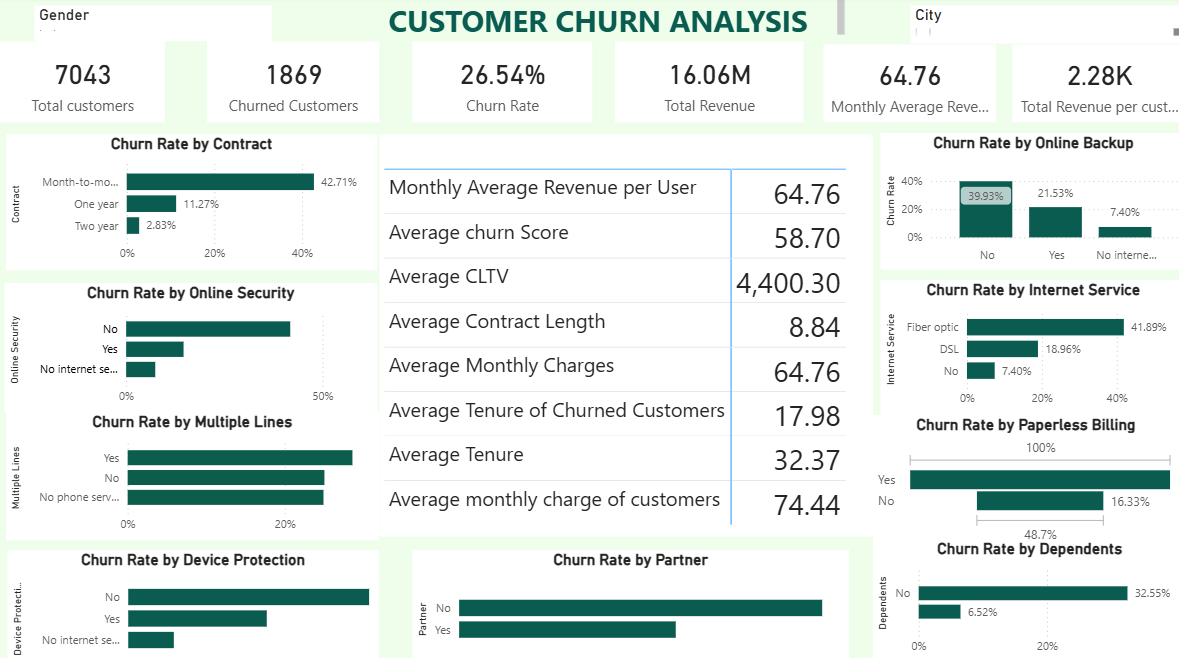

Layout of this report page (visuals, bound fields, positions):
{"tool":"powerbi","page":{"name":"Churn Rate","canvas":[1280,720],"ordinal":0},"visuals":[{"type":"card","fields":{"Values":["Measure Table.Total customers"]},"box":[0,50.9,178.1,87.5],"z":0},{"type":"card","fields":{"Values":["Measure Table.Churned Customers"]},"box":[222.7,50.9,186.1,87.5],"z":1000},{"type":"card","fields":{"Values":["Measure Table.Churn Rate"]},"box":[445.4,50.9,194.1,87.5],"z":2000},{"type":"textbox","box":[383.8,0,532.7,50.2],"z":3000},{"type":"card","fields":{"Values":["Measure Table.Total Revenue"]},"box":[663.3,50.9,203.6,87.5],"z":4000},{"type":"card","fields":{"Values":["Measure Table.Total Revenue per customer"]},"box":[1092.7,54.1,187.7,84.3],"z":5000},{"type":"card","fields":{"Values":["Measure Table.Monthly Average Revenue per User"]},"box":[889.2,54.1,186.1,84.3],"z":6000},{"type":"pivotTable","fields":{"Values":["Measure Table.Monthly Average Revenue per User","Measure Table.Average churn Score","Measure Table.Average CLTV","Measure Table.Average Contract Length","Measure Table.Average Monthly Charges","Measure Table.Average Tenure of Churned Customers","Measure Table.Average Tenure","Measure Table.Average monthly charge of customers"]},"box":[409.7,150.6,532.7,434],"z":7000},{"type":"barChart","fields":{"Category":["Telco_Churn.Contract"],"Y":["Measure Table.Churn Rate"]},"box":[6.4,151.1,400.8,146.3],"z":8000},{"type":"clusteredBarChart","fields":{"Y":["Measure Table.Churn Rate"],"Category":["Telco_Churn.Online Security"]},"box":[4.8,310.2,402.4,140],"z":9000},{"type":"clusteredBarChart","fields":{"Category":["Telco_Churn.Multiple Lines"],"Y":["Measure Table.Churn Rate"]},"box":[6.4,450.1,402.4,138.4],"z":10000},{"type":"clusteredBarChart","fields":{"Category":["Telco_Churn.Device Protection"],"Y":["Measure Table.Churn Rate"]},"box":[8,599.7,400.8,120.9],"z":11000},{"type":"lineClusteredColumnComboChart","fields":{"Category":["Telco_Churn.Online Backup"],"Y":["Measure Table.Churn Rate"]},"box":[950.5,149,330.3,147.3],"z":12000},{"type":"clusteredBarChart","fields":{"Y":["Measure Table.Churn Rate"],"Category":["Telco_Churn.Internet Service"]},"box":[950.5,307.7,330.3,145.7],"z":13000},{"type":"funnel","fields":{"Category":["Telco_Churn.Paperless Billing"],"Y":["Measure Table.Churn Rate"]},"box":[942.4,453.4,330.3,142.5],"z":14000},{"type":"clusteredBarChart","fields":{"Y":["Measure Table.Churn Rate"],"Category":["Telco_Churn.Dependents"]},"box":[942.4,587.8,338.4,132.8],"z":15000},{"type":"clusteredBarChart","fields":{"Category":["Telco_Churn.Partner"],"Y":["Measure Table.Churn Rate"]},"box":[445.3,599.1,471.2,121.4],"z":16000},{"type":"listSlicer","fields":{"Values":["Telco_Churn.City"]},"box":[983,11.1,297.4,39.8],"z":17000},{"type":"listSlicer","fields":{"Values":["Telco_Churn.Gender"]},"box":[37.2,11.3,255.8,38.9],"z":18000}]}

Visuals, with their boxes in screenshot pixels (x1, y1, x2, y2), scaled from the page's 1280x720 canvas onto the 1179x658 screenshot:
card - Measure Table.Total customers: <bbox>0, 47, 164, 126</bbox>
card - Measure Table.Churned Customers: <bbox>205, 47, 377, 126</bbox>
card - Measure Table.Churn Rate: <bbox>410, 47, 589, 126</bbox>
textbox: <bbox>354, 0, 844, 46</bbox>
card - Measure Table.Total Revenue: <bbox>611, 47, 798, 126</bbox>
card - Measure Table.Total Revenue per customer: <bbox>1006, 49, 1178, 126</bbox>
card - Measure Table.Monthly Average Revenue per User: <bbox>819, 49, 990, 126</bbox>
pivotTable - Measure Table.Monthly Average Revenue per User x Measure Table.Average churn Score: <bbox>377, 138, 868, 534</bbox>
barChart - Telco_Churn.Contract x Measure Table.Churn Rate: <bbox>6, 138, 375, 272</bbox>
clusteredBarChart - Measure Table.Churn Rate x Telco_Churn.Online Security: <bbox>4, 283, 375, 411</bbox>
clusteredBarChart - Telco_Churn.Multiple Lines x Measure Table.Churn Rate: <bbox>6, 411, 377, 538</bbox>
clusteredBarChart - Telco_Churn.Device Protection x Measure Table.Churn Rate: <bbox>7, 548, 377, 657</bbox>
lineClusteredColumnComboChart - Telco_Churn.Online Backup x Measure Table.Churn Rate: <bbox>875, 136, 1178, 271</bbox>
clusteredBarChart - Measure Table.Churn Rate x Telco_Churn.Internet Service: <bbox>875, 281, 1178, 414</bbox>
funnel - Telco_Churn.Paperless Billing x Measure Table.Churn Rate: <bbox>868, 414, 1172, 545</bbox>
clusteredBarChart - Measure Table.Churn Rate x Telco_Churn.Dependents: <bbox>868, 537, 1178, 657</bbox>
clusteredBarChart - Telco_Churn.Partner x Measure Table.Churn Rate: <bbox>410, 548, 844, 657</bbox>
listSlicer - Telco_Churn.City: <bbox>905, 10, 1178, 47</bbox>
listSlicer - Telco_Churn.Gender: <bbox>34, 10, 270, 46</bbox>
